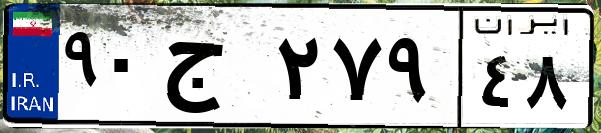0: (110, 28, 158, 98)
2: (270, 28, 330, 110)
4: (475, 38, 525, 113)
7: (330, 28, 385, 110)
8: (525, 38, 570, 115)
9: (385, 28, 445, 110), (57, 26, 110, 100)
ج: (158, 20, 270, 120)
